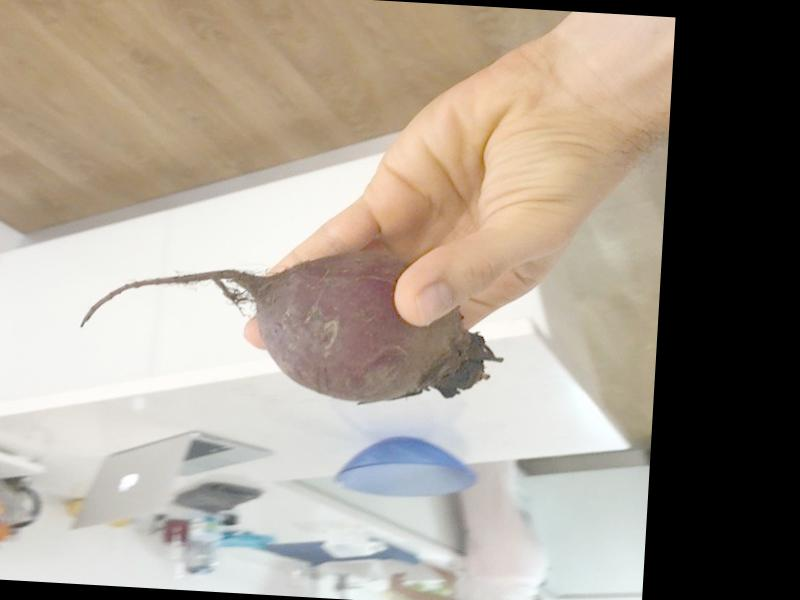Beet: (76, 239, 504, 409)
